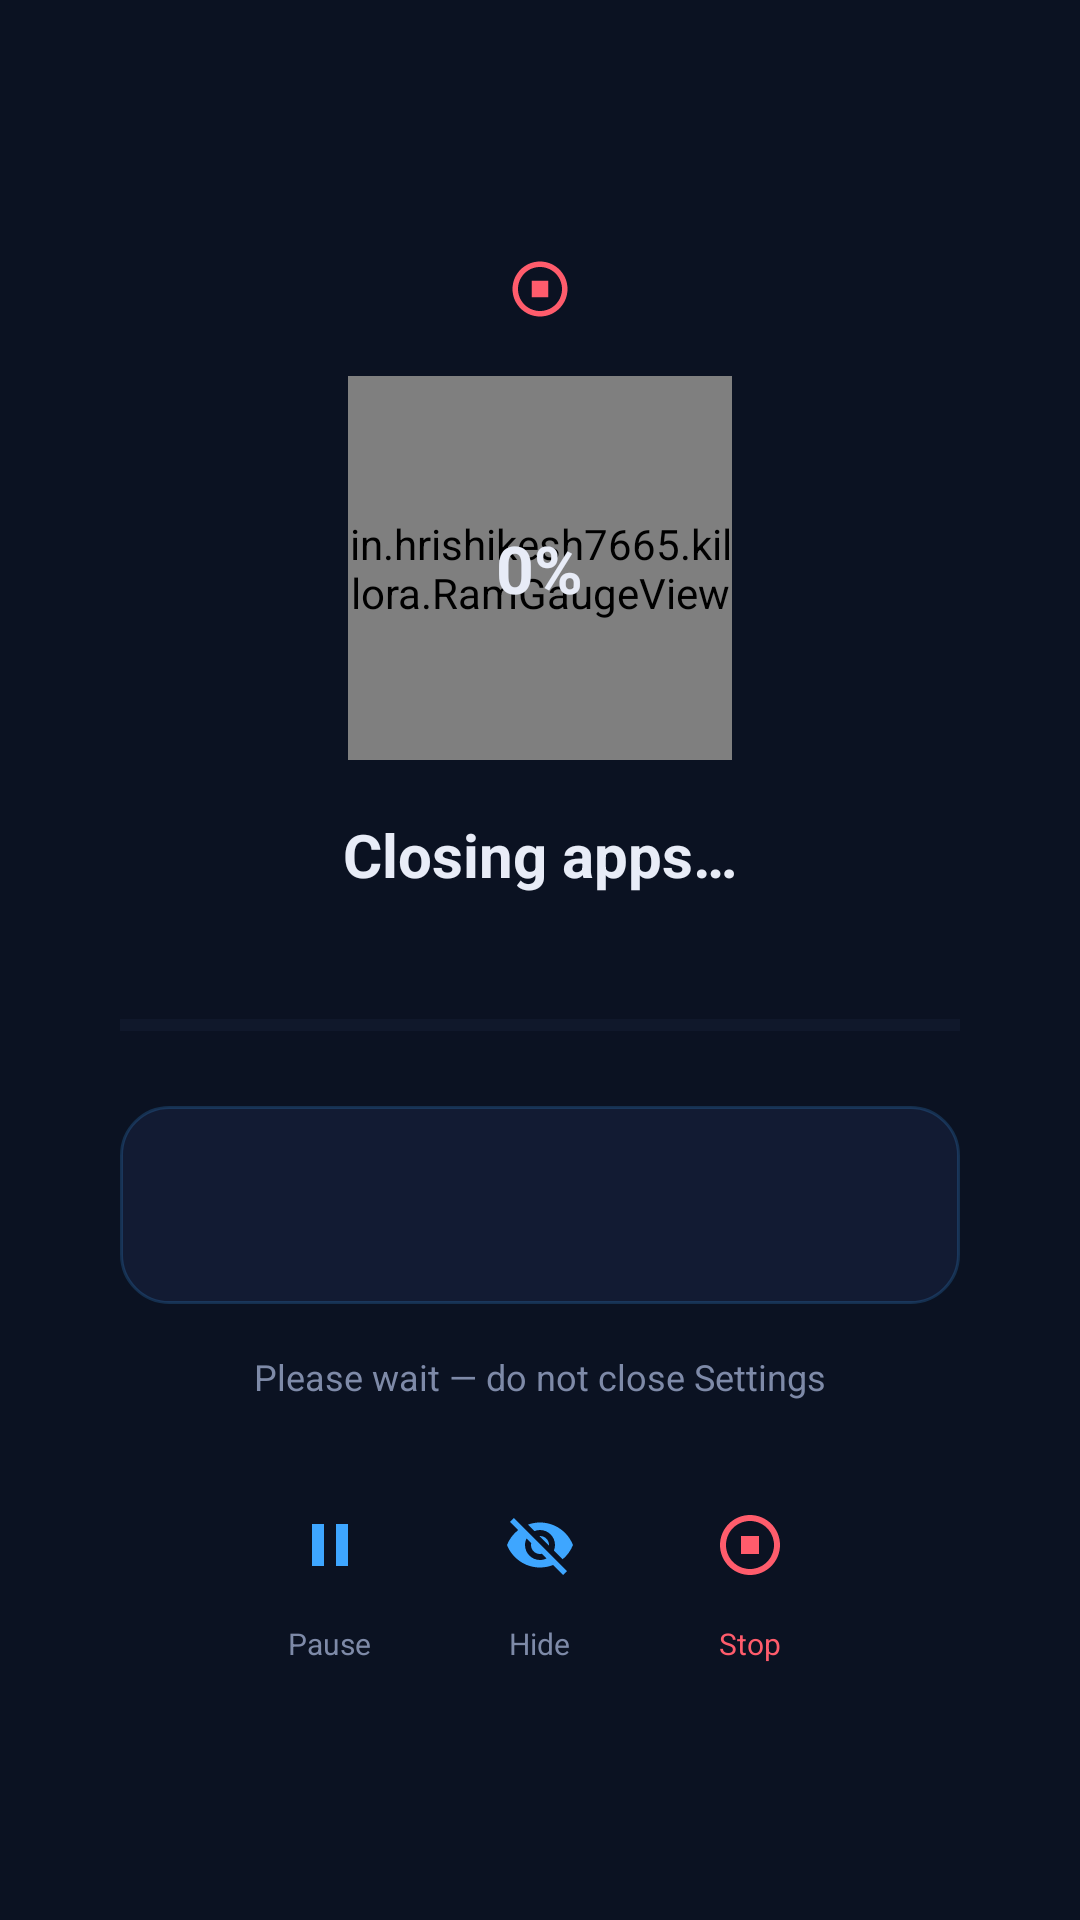

Named icons in this screenshot (1080w x 1920h) and their centers, (x=x, y=y):
force stop: (x=540, y=289)
